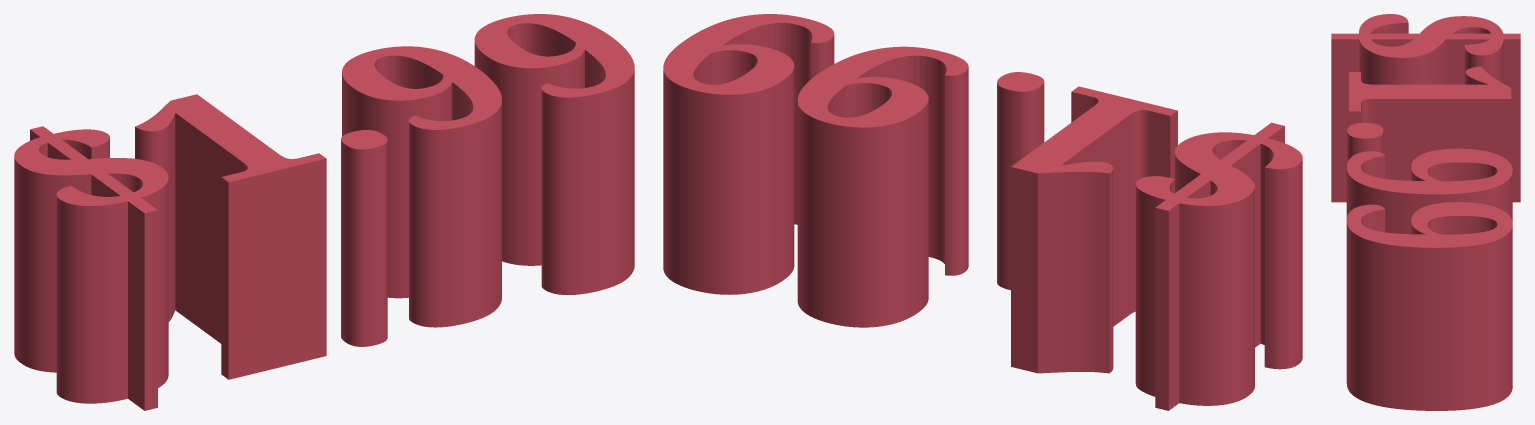
3 views of the same model, side by side, from view 1: azimuth 30°, elevation 25°; view 2: azimuth 150°, elevation 25°; view 3: azimuth 270°, elevation 25° (orthographic). The views are drawn at different scales.
Parts seen in each view (by area): view 1: Mesh_Mesh_head_geo.001_lambert2SG.001; view 2: Mesh_Mesh_head_geo.001_lambert2SG.001; view 3: Mesh_Mesh_head_geo.001_lambert2SG.001.
Boxes of the visible parts, left/top/right/bottom form: Mesh_Mesh_head_geo.001_lambert2SG.001: left=14, top=14, right=634, bottom=410; Mesh_Mesh_head_geo.001_lambert2SG.001: left=663, top=14, right=1302, bottom=410; Mesh_Mesh_head_geo.001_lambert2SG.001: left=1331, top=14, right=1520, bottom=410.
Bounding box in the file's own units: 68 × 22.12 × 23.3.
